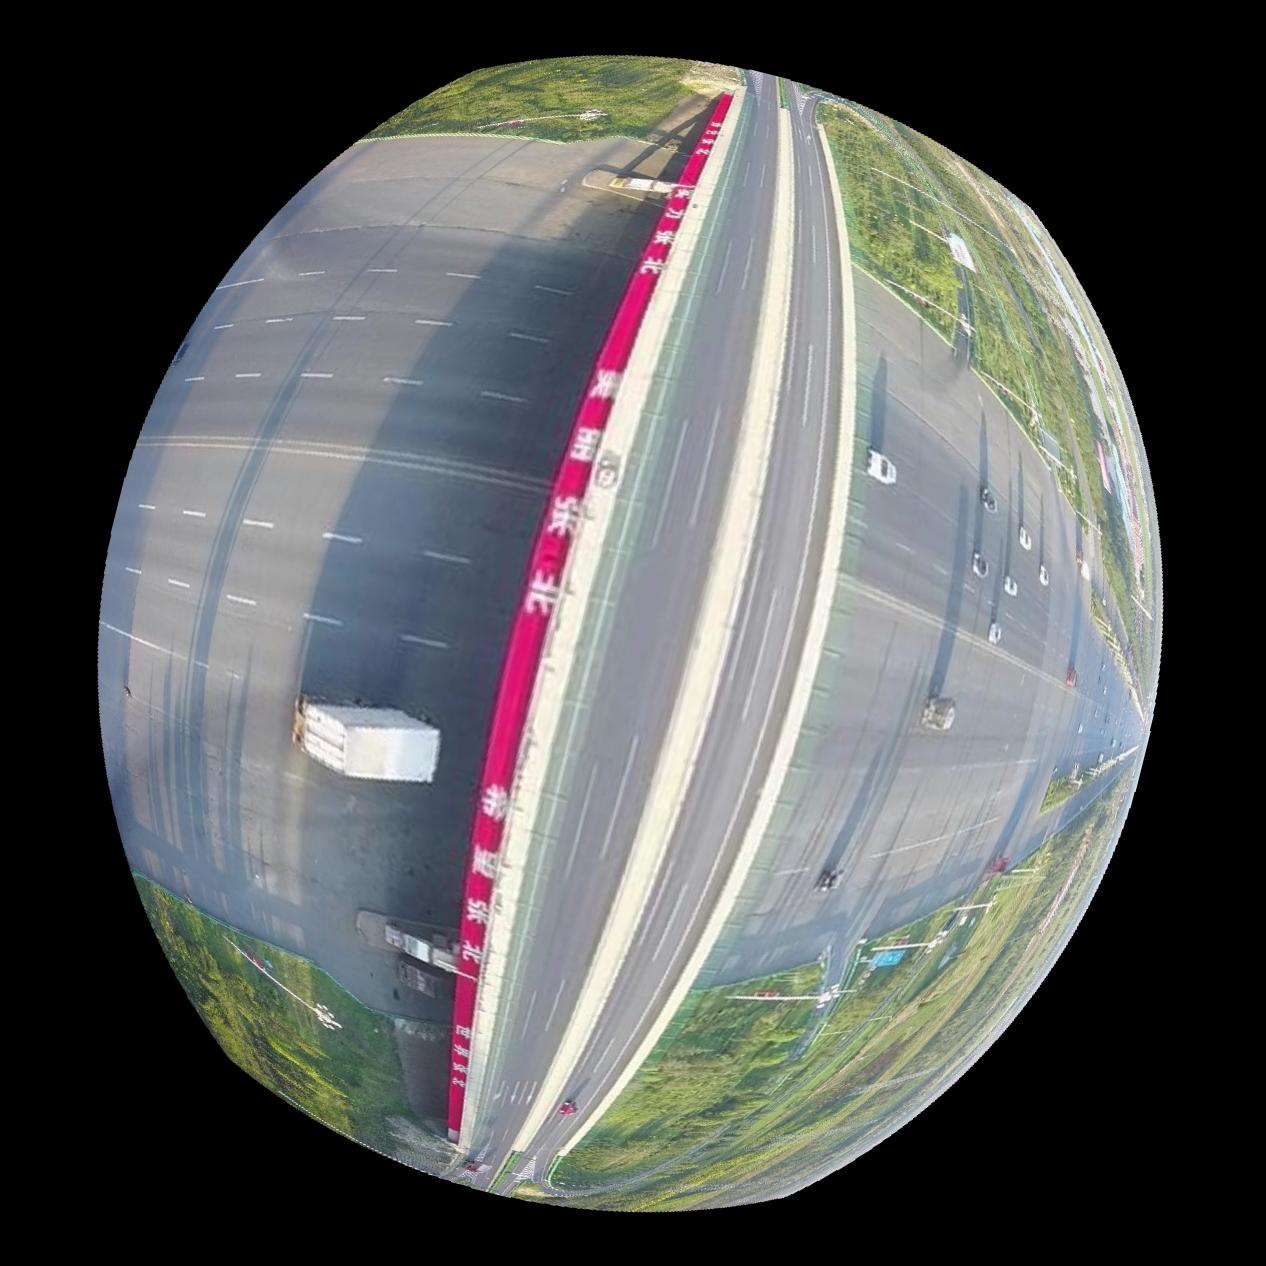cars: (291, 697, 438, 784), (919, 696, 955, 732), (866, 446, 897, 485), (814, 867, 845, 895), (970, 551, 989, 577)
trees: (820, 99, 1160, 691), (555, 926, 1014, 1214), (133, 879, 450, 1176), (366, 54, 691, 141)
